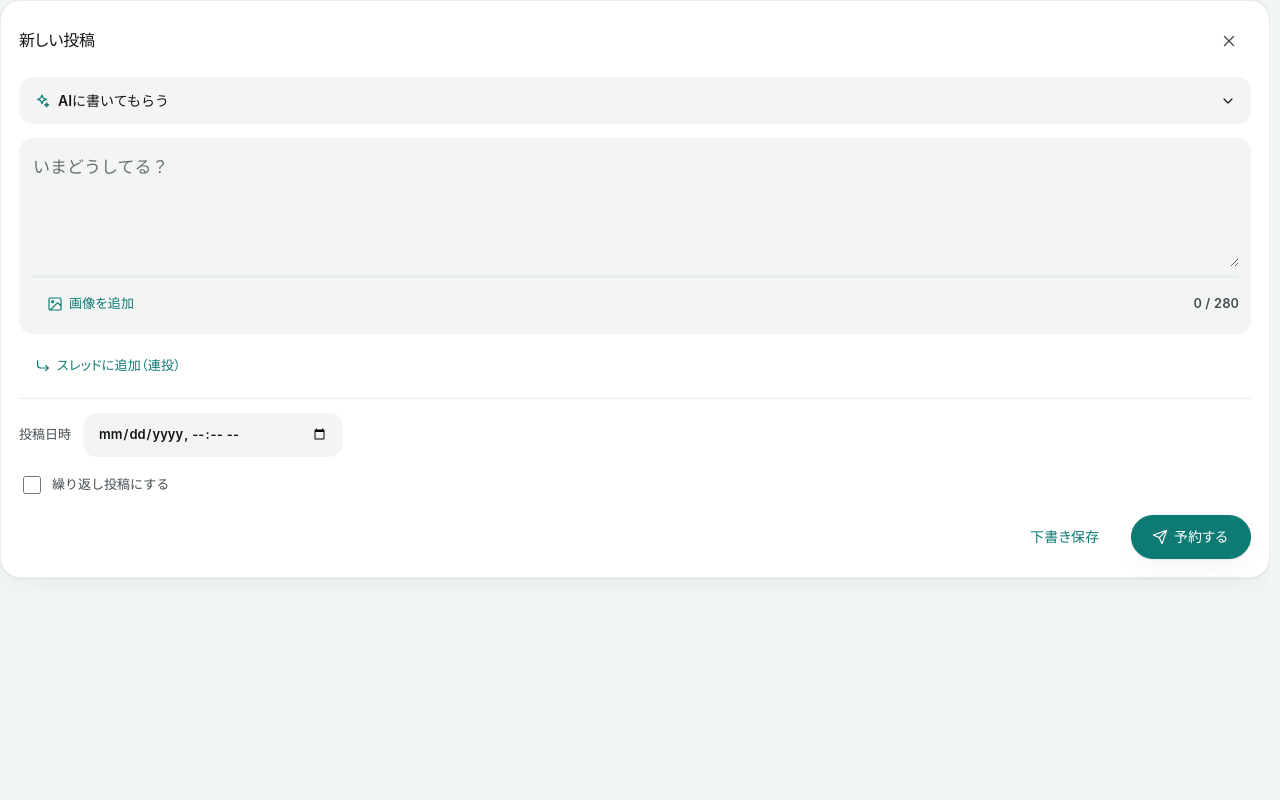
Test: PostComposer: 毎日ちがう本文をAIにまかせる › お題が空のままでは予約できない
Click the checkbox labelled "繰り返し投稿にする" at (32, 485), box [23,476,41,494]
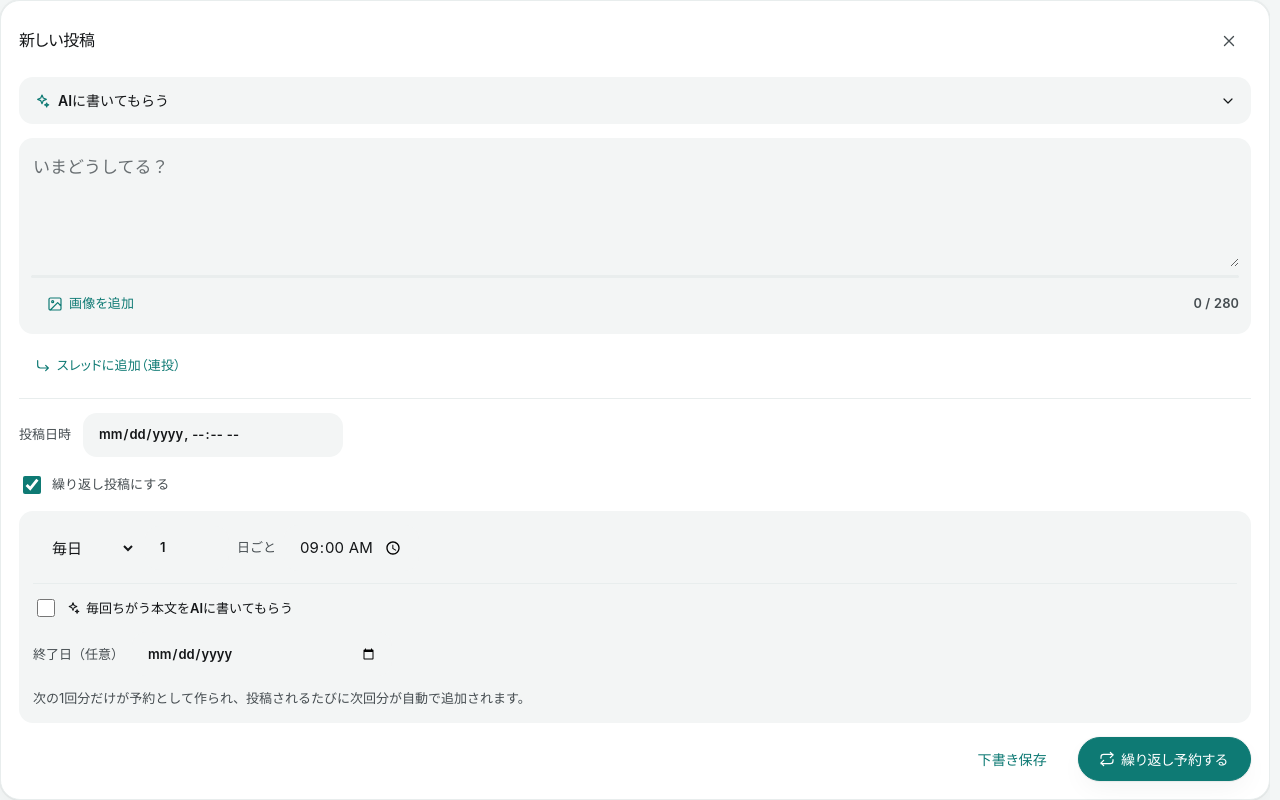
Click the checkbox labelled "毎回ちがう本文をAIに書いてもらう" at (46, 608), box [37,599,55,617]
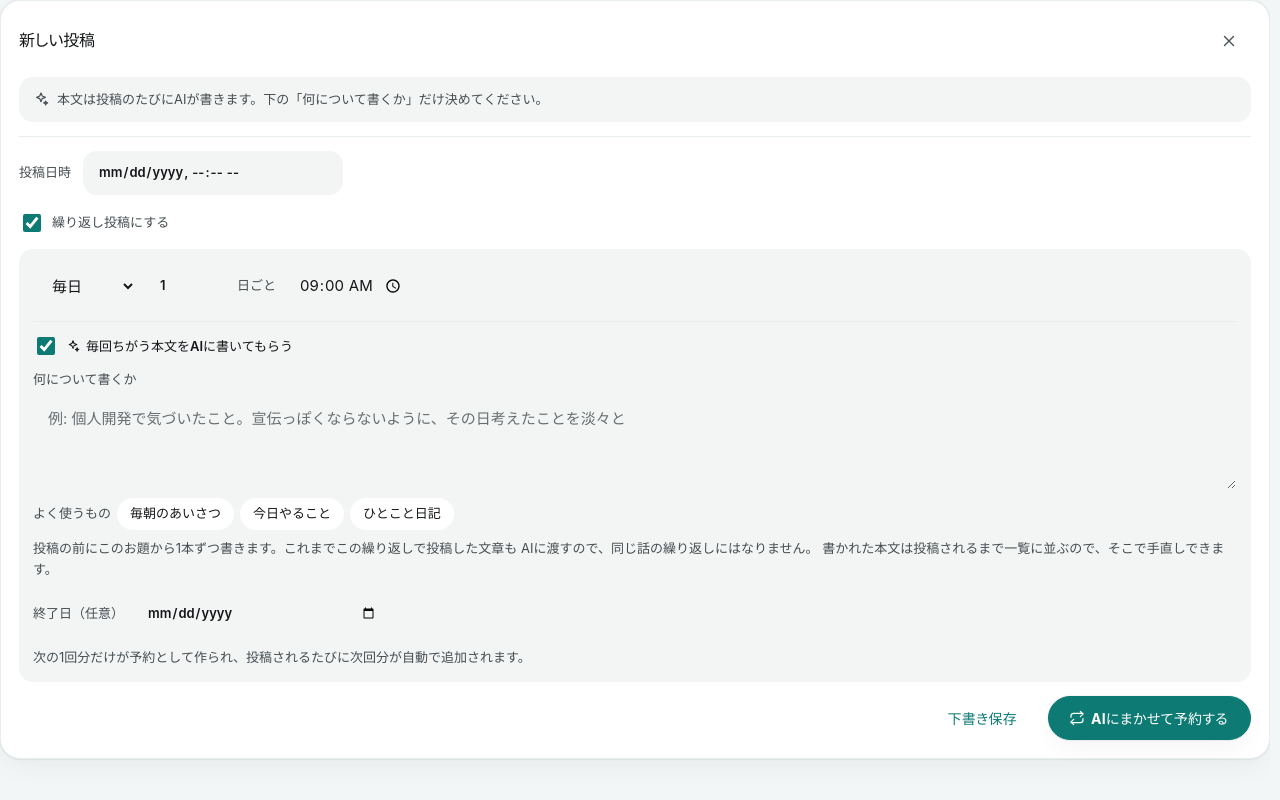
Click the button "AIにまかせて予約する" at (1150, 718), box [1048,696,1251,740]
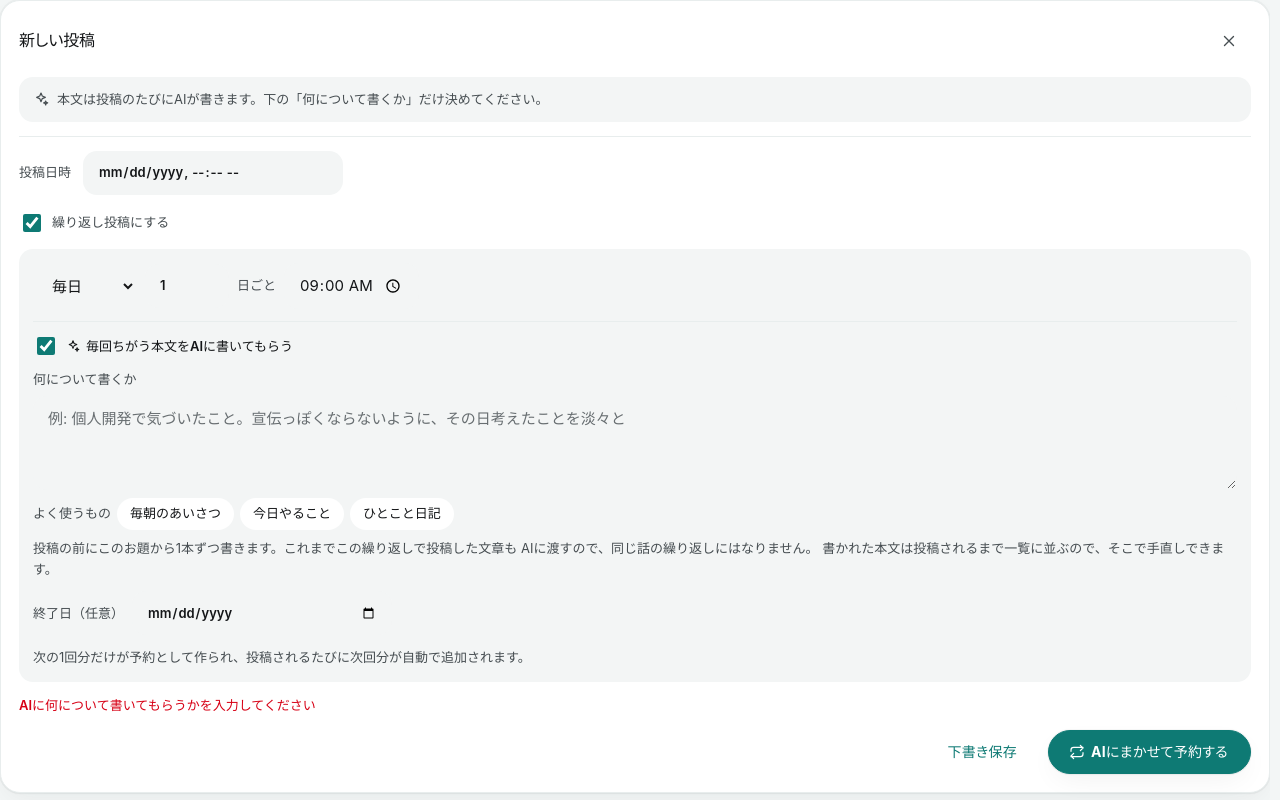
Check: the text "AIに何について書いてもらうかを入力してください" is shown, box [19,697,316,713]
